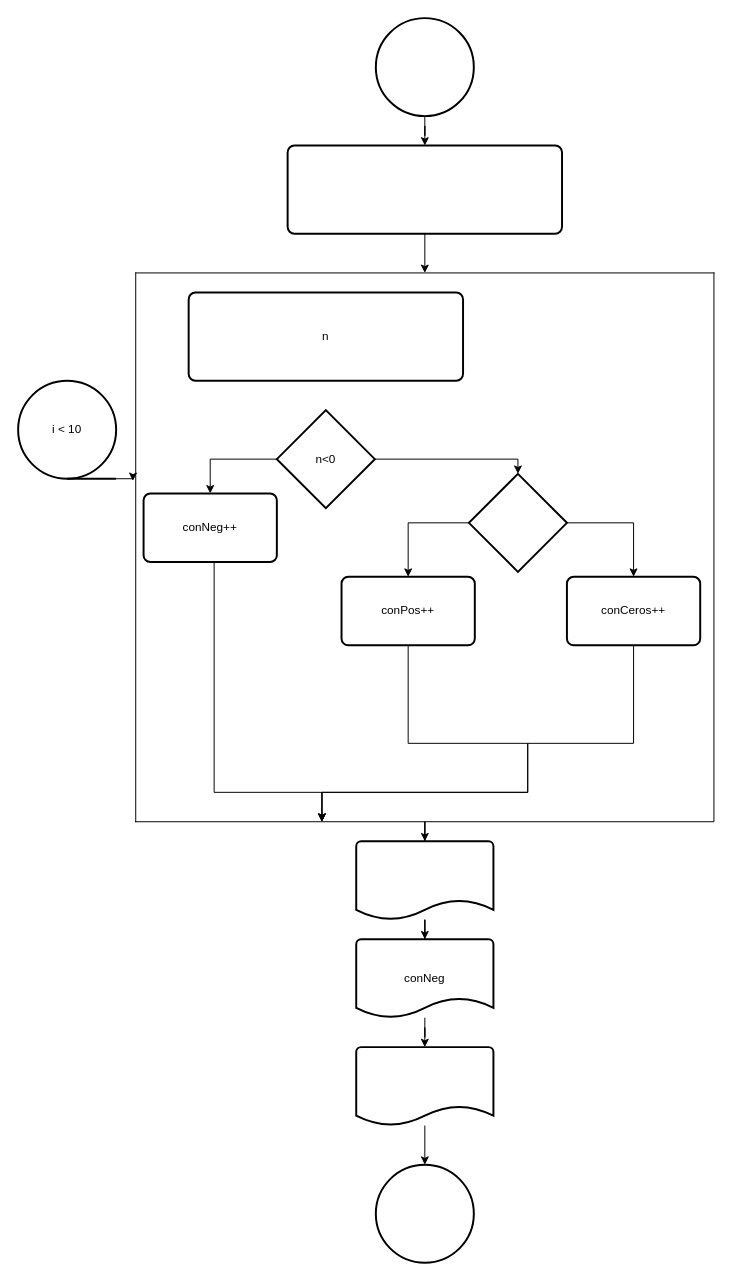
The diagram is 731 pixels wide and 1280 high, and some of its shapes have lost their labels. The shapes that lost their labels are listed below. From the top down, each one's centre as x and y in pixels, then its label:
the point at 424,189: i=0, conPos=0, conNeg=0, conCeros=0
the point at 517,522: n>0
the point at 424,880: conPos
the point at 424,1086: conCeros
